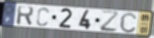2: (58, 8, 73, 29)
4: (78, 9, 93, 31)
C: (119, 12, 138, 34), (36, 7, 51, 28)
R: (16, 5, 35, 27)
Z: (100, 10, 120, 33)
